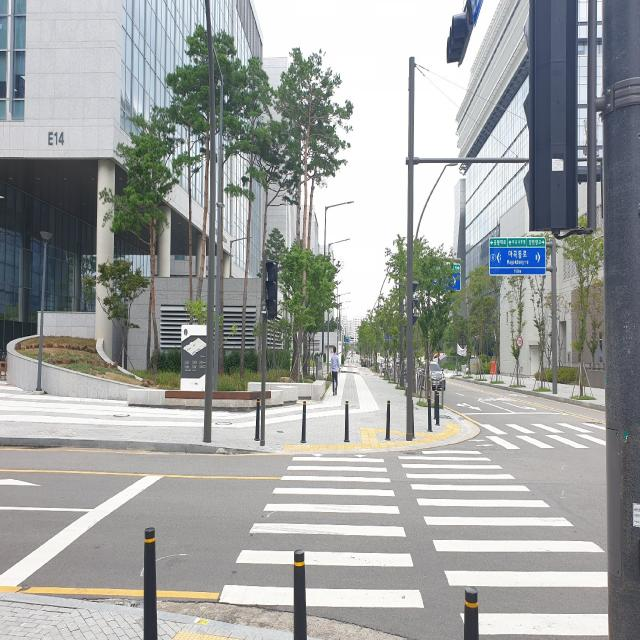횡단보도: (215, 444, 611, 640), (484, 421, 606, 448)
